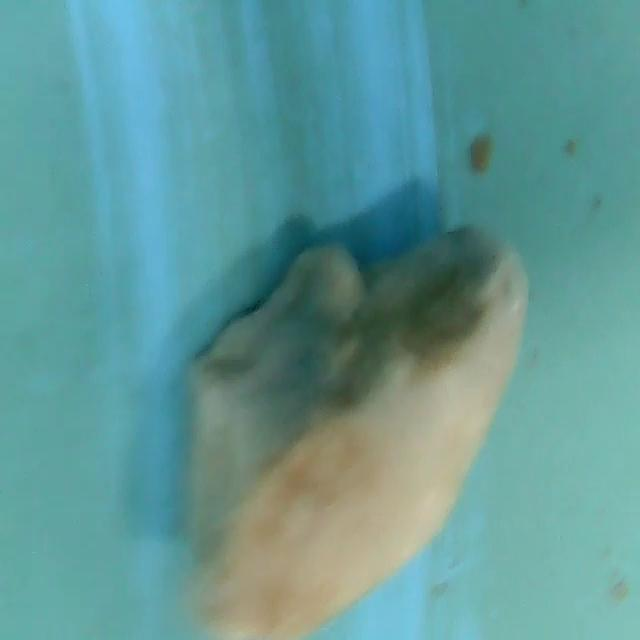rock: (184, 223, 531, 637)
